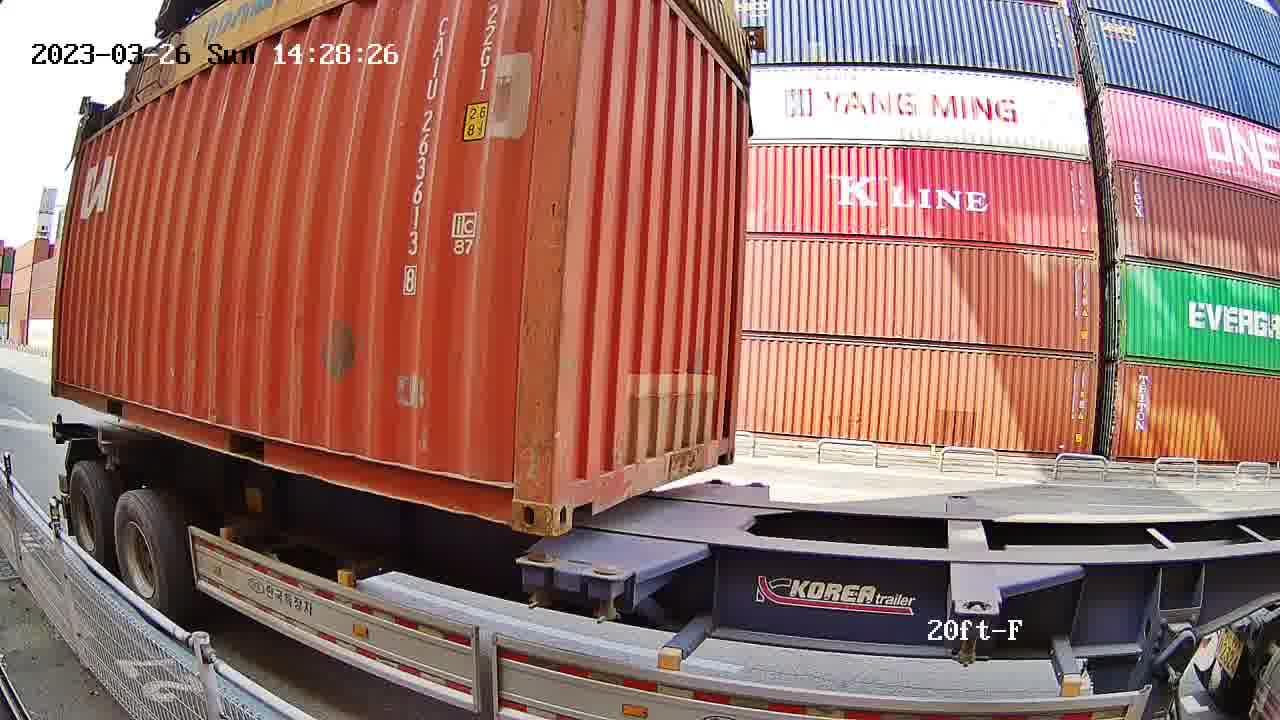Chassis: (521, 481, 724, 567), (589, 486, 767, 578)
Cone: (518, 553, 558, 610), (591, 565, 629, 623)
Hole_L: (554, 452, 601, 540)
Hole_R: (476, 454, 556, 536), (712, 421, 736, 467)
Tire: (116, 493, 172, 619), (66, 466, 110, 574)
